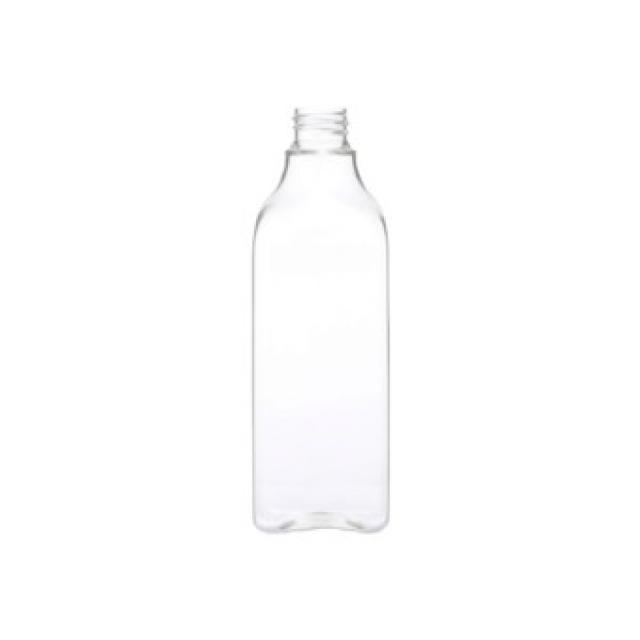BotolPlastik: (250, 104, 391, 533)
